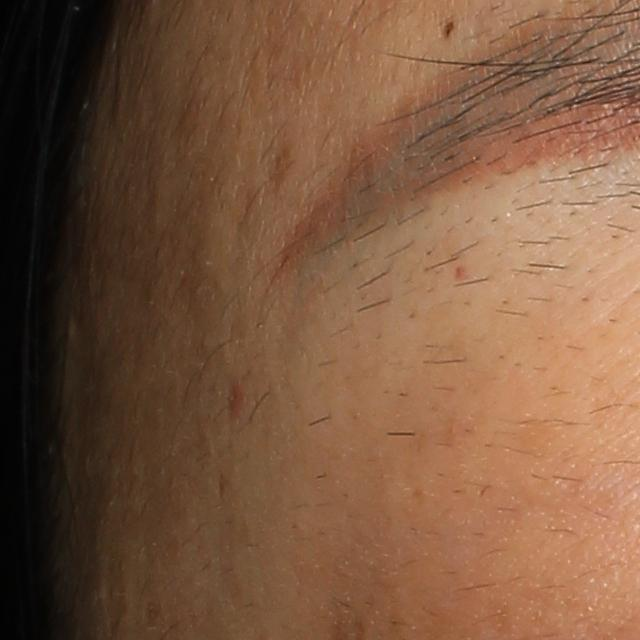nevus: (439, 17, 461, 42)
